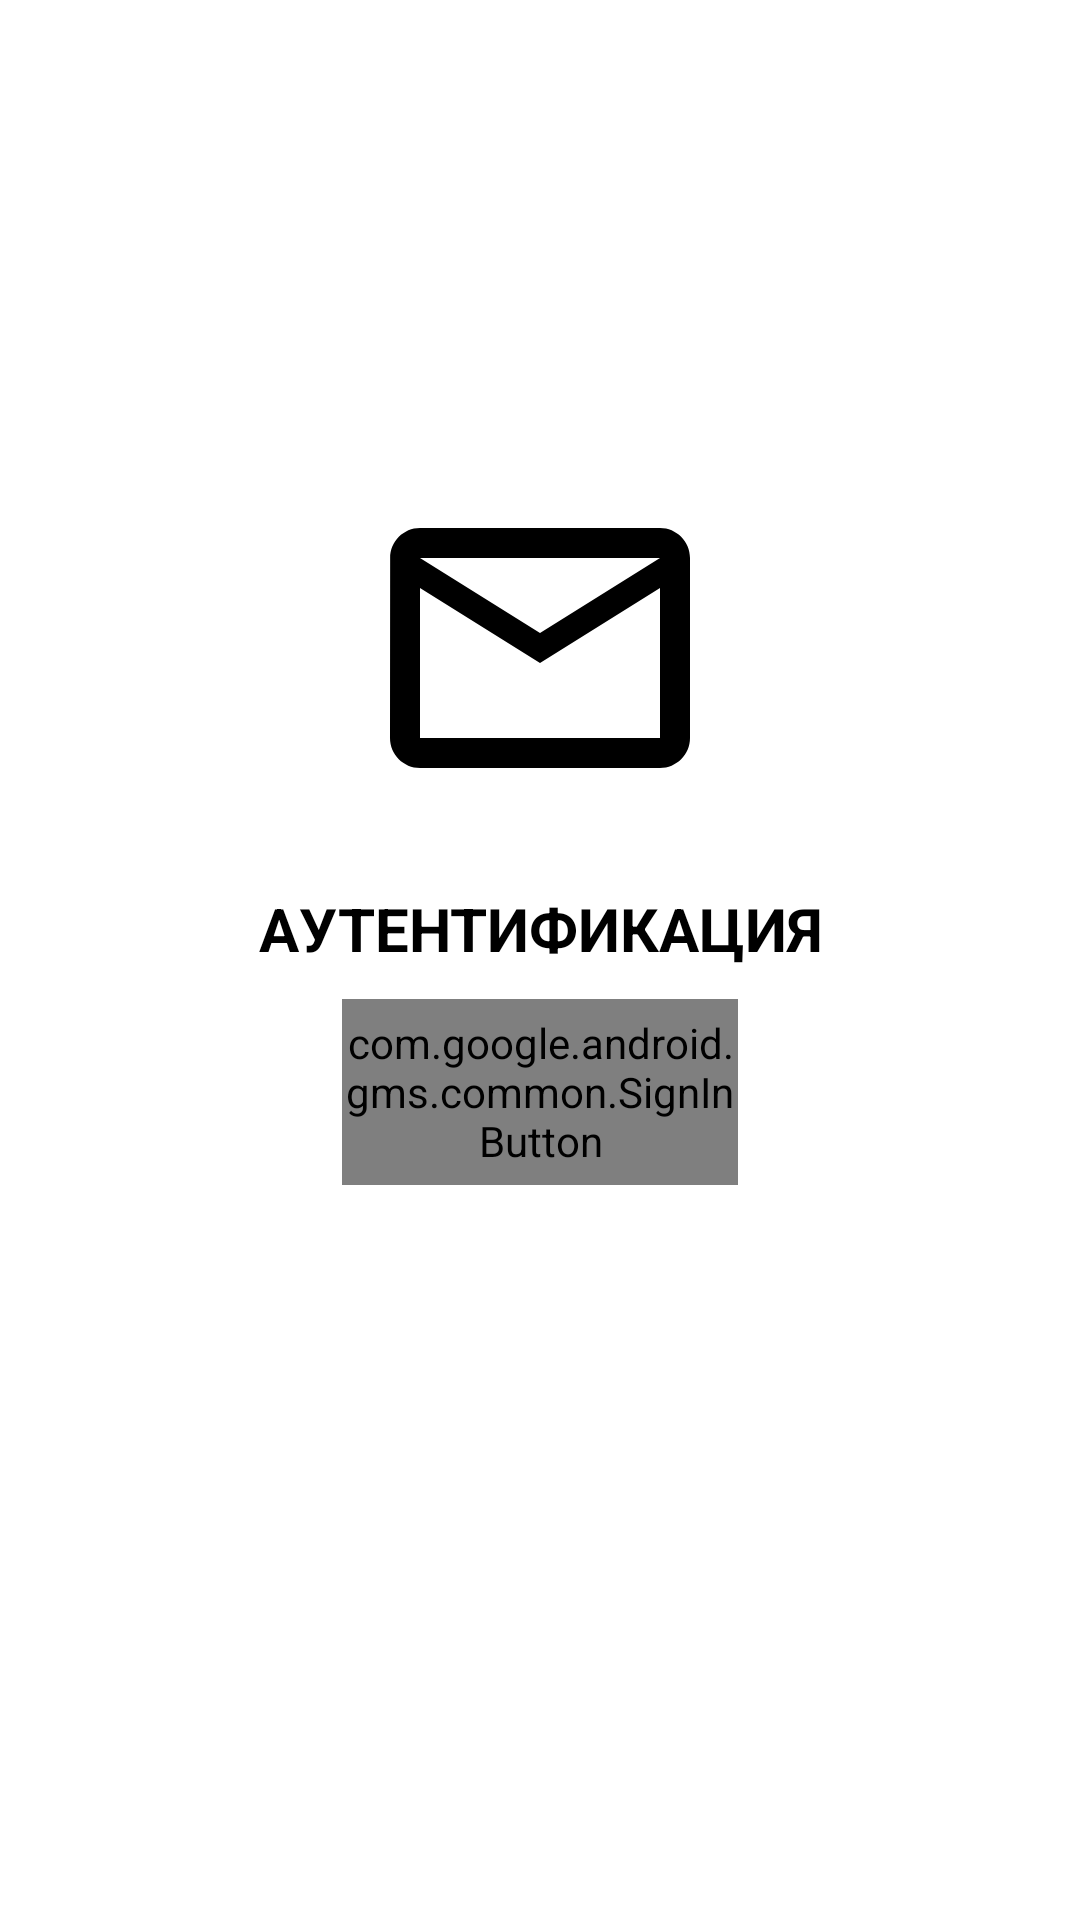

Icon click points for this 1080w x 1920h phone screenshot, format (x=x, y=y):
mail: (x=540, y=648)
